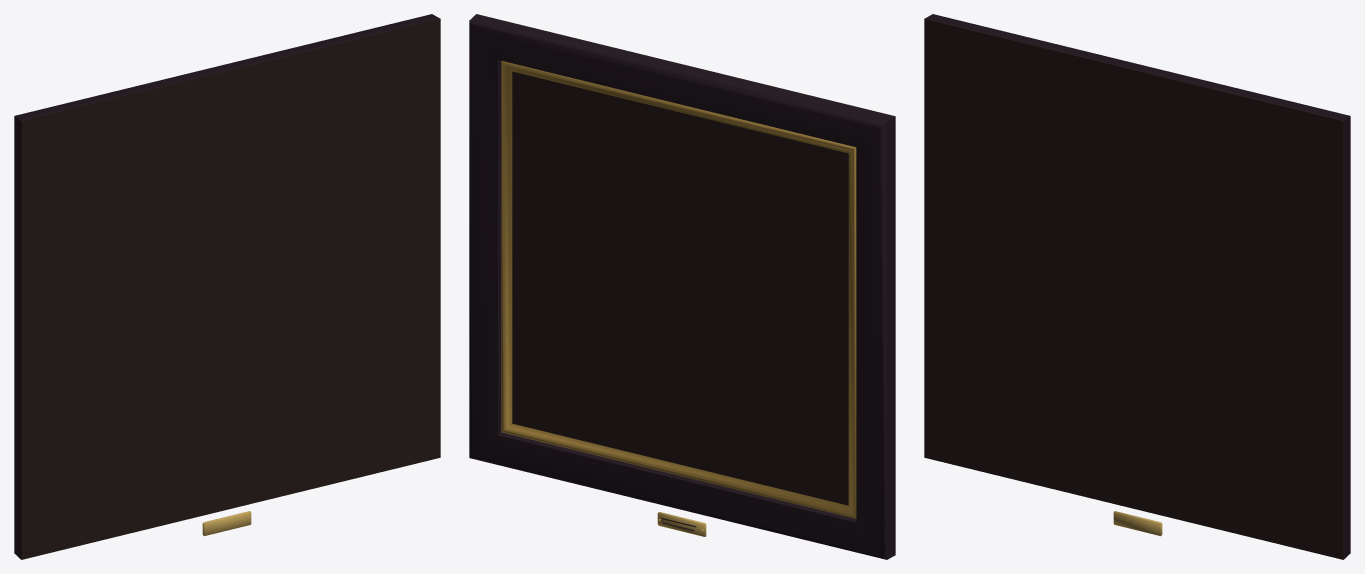
The model's file is ebony_dark_square.glb.
3 views of the same model, side by side, from view 1: azimuth 30°, elevation 25°; view 2: azimuth 150°, elevation 25°; view 3: azimuth 330°, elevation 25° (orthographic).
Visible parts, largest first — view 1: ebony_dark_square; view 2: ebony_dark_square; view 3: ebony_dark_square.
Part boxes in pixels (bbox=[...]): ebony_dark_square: bbox=[14, 14, 440, 559]; ebony_dark_square: bbox=[469, 14, 895, 559]; ebony_dark_square: bbox=[924, 14, 1350, 559].
Size of what is drawn, in the model's own units: 1.22 by 1.28 by 0.052.
